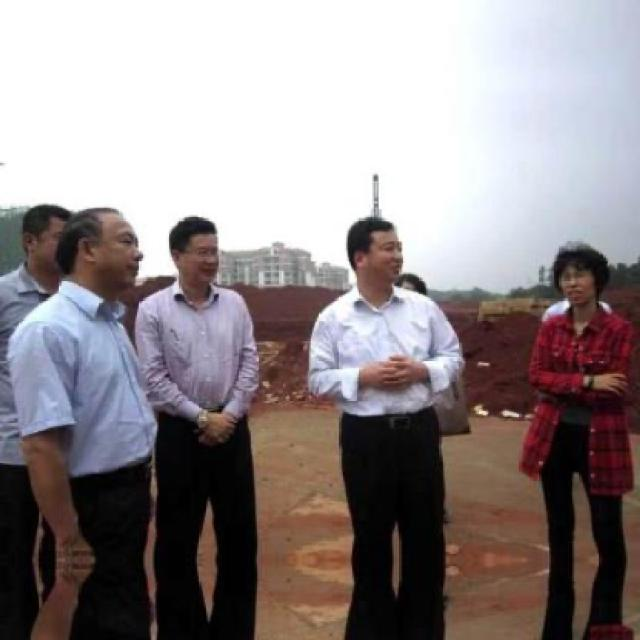sin casco: (166, 210, 278, 326), (338, 218, 422, 284), (538, 243, 626, 297)
